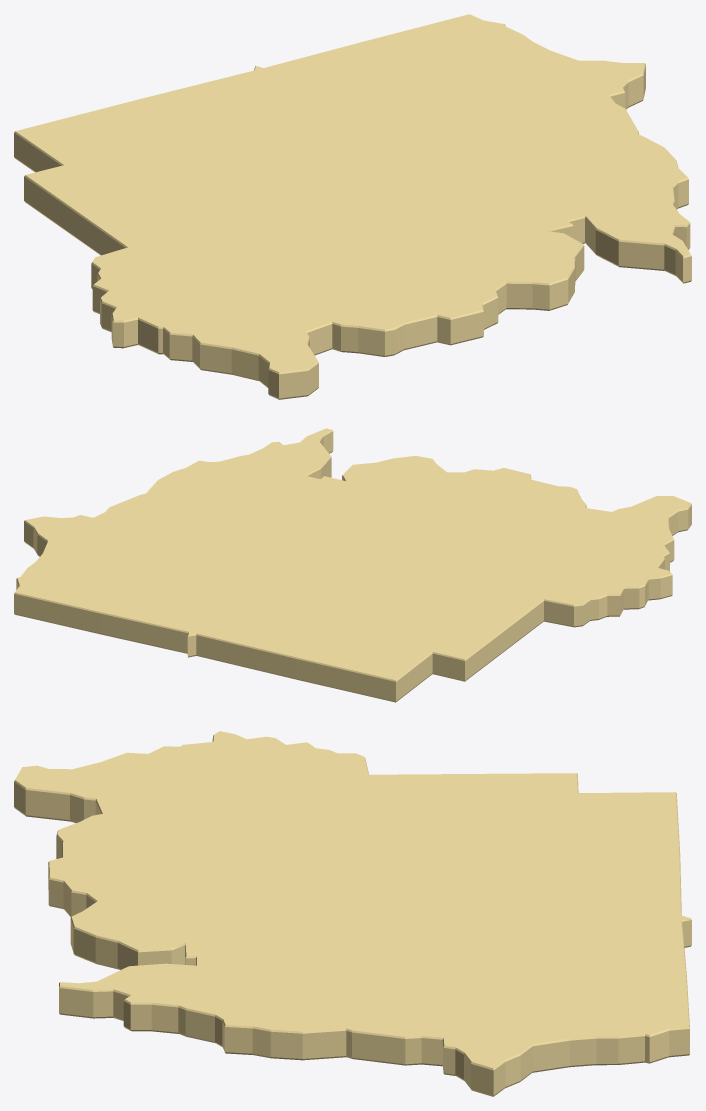
The model's file is SDN.glb.
3 views of the same model, one above another, from view 1: azimuth 30°, elevation 25°; view 2: azimuth 150°, elevation 25°; view 3: azimuth 270°, elevation 25° (orthographic). The views are drawn at different scales.
Bounding box in the file's own units: 1.72 × 0.068 × 1.46.
